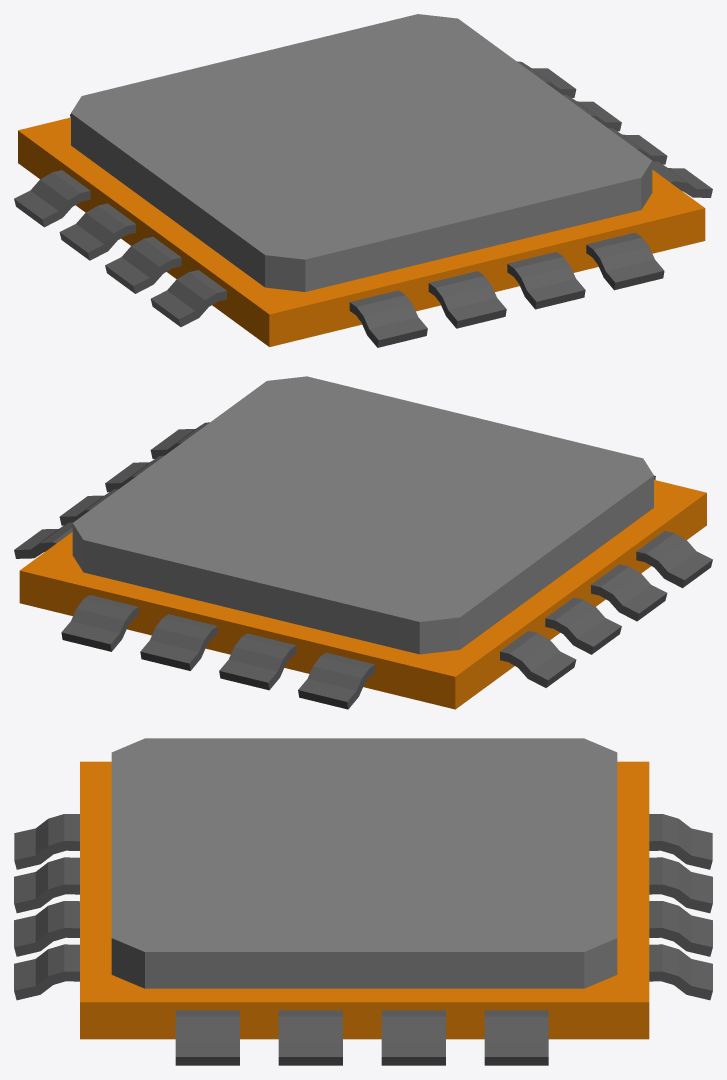
3 views of the same model, one above another, from view 1: azimuth 30°, elevation 25°; view 2: azimuth 150°, elevation 25°; view 3: azimuth 270°, elevation 25° (orthographic). The views are drawn at different scales.
Parts seen in each view (by area): view 1: Plane.002; view 2: Plane.002; view 3: Plane.002.
Boxes of the visible parts, left/top/right/bottom form: Plane.002: left=14, top=14, right=712, bottom=347; Plane.002: left=14, top=376, right=712, bottom=709; Plane.002: left=14, top=738, right=712, bottom=1065.
Size of the model in its own units: 5.77 by 0.672 by 5.78.
